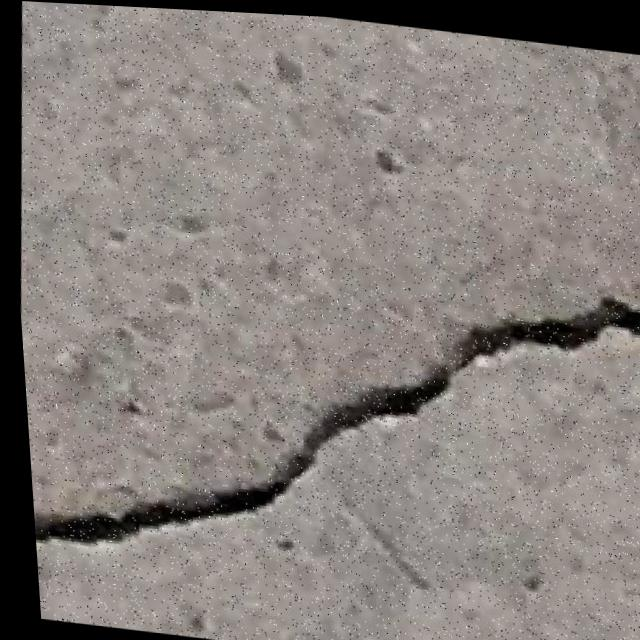Crack: (12, 220, 640, 623)
